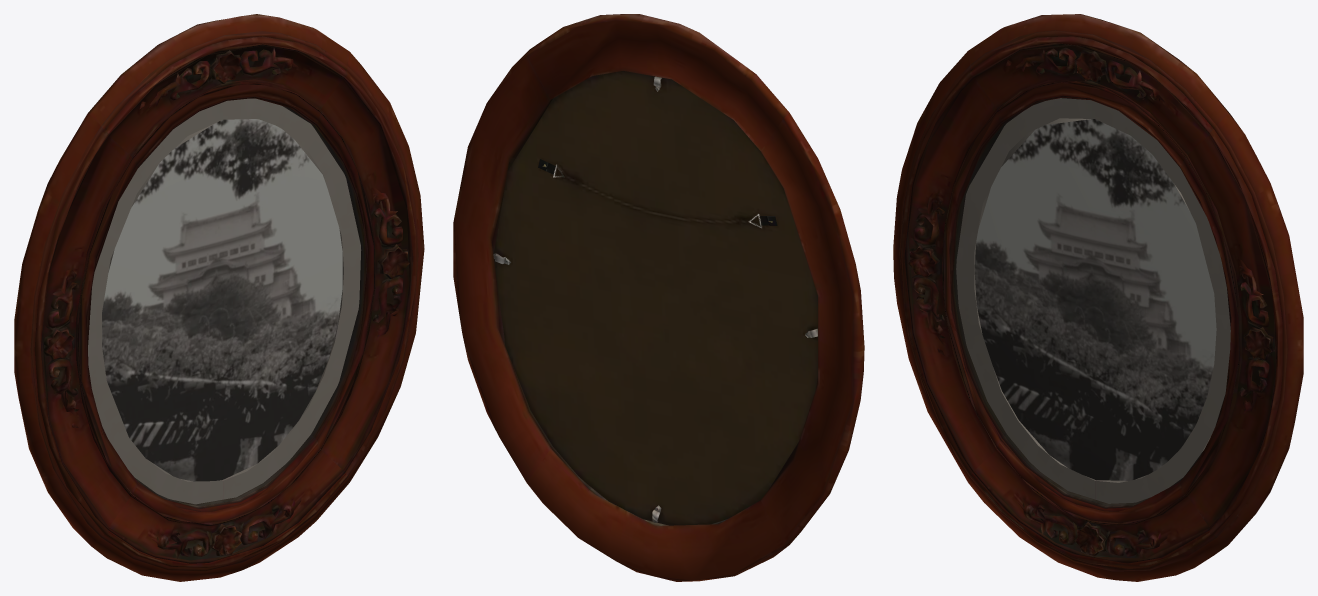
The model's file is hanging_picture_frame_03.glb.
3 renders of one model, left to right at view 1: azimuth 30°, elevation 25°; view 2: azimuth 150°, elevation 25°; view 3: azimuth 330°, elevation 25°, orthographic.
Visible parts, largest first — view 1: hanging_picture_frame_03, hanging_picture_frame_03_glass; view 2: hanging_picture_frame_03; view 3: hanging_picture_frame_03, hanging_picture_frame_03_glass.
Part boxes in pixels (x1,y1,x2,y2): hanging_picture_frame_03: [14, 14, 424, 581]; hanging_picture_frame_03_glass: [88, 98, 363, 506]; hanging_picture_frame_03: [453, 14, 864, 581]; hanging_picture_frame_03: [893, 14, 1303, 581]; hanging_picture_frame_03_glass: [954, 98, 1230, 505].
Bounding box in the file's own units: 0.3847 × 0.5008 × 0.0318.
Materials: 3 (2 with a texture image).
